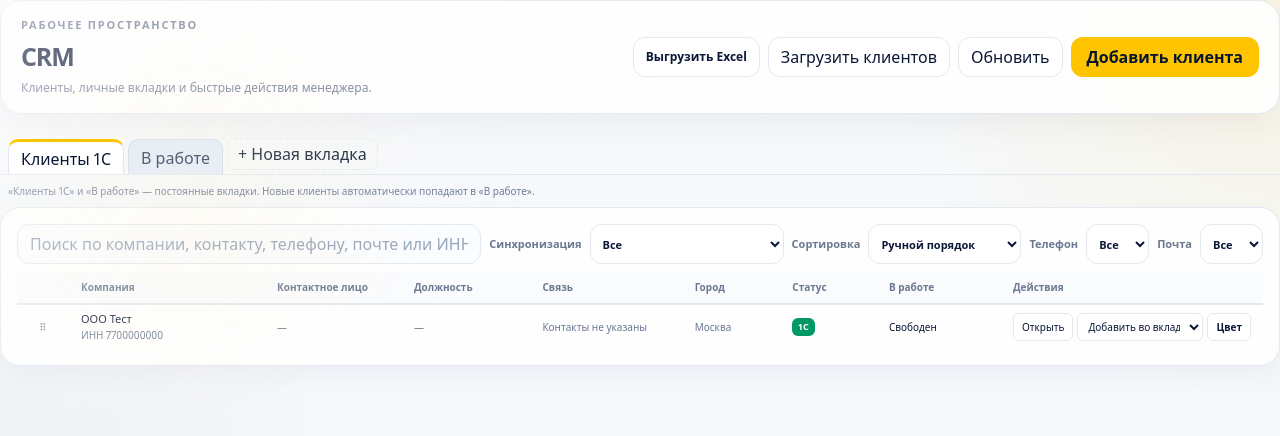
Test: a successful move reloads primary owners and persists the fresh names in the workspace cache
Expected: the text "Свободен" is shown, [889, 320, 937, 334]
Select "В работе" in the dropdown named "Добавить ООО Тест во вкладку" at [1140, 327], box [1077, 313, 1203, 341]
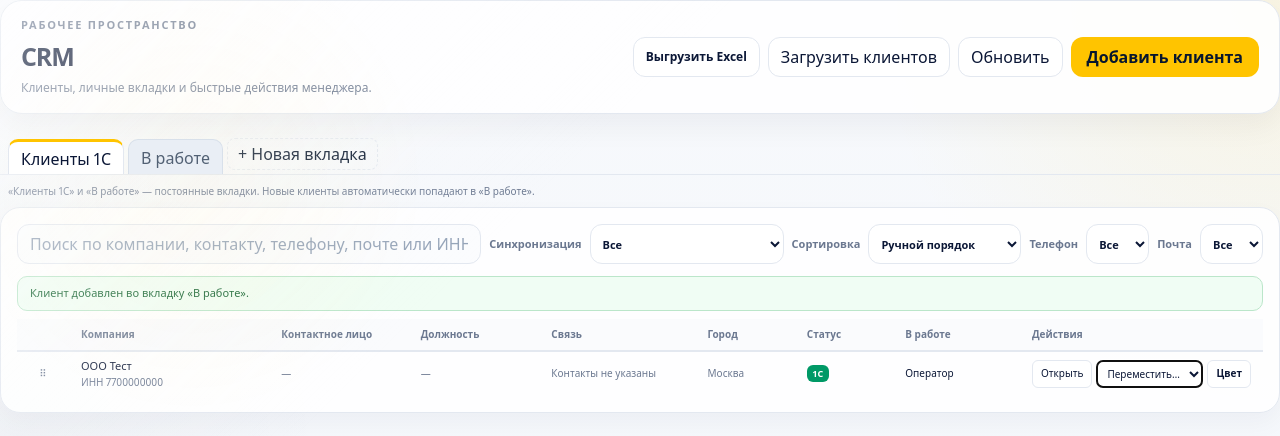
Result: the text "Оператор" is shown at [905, 366, 954, 380]
